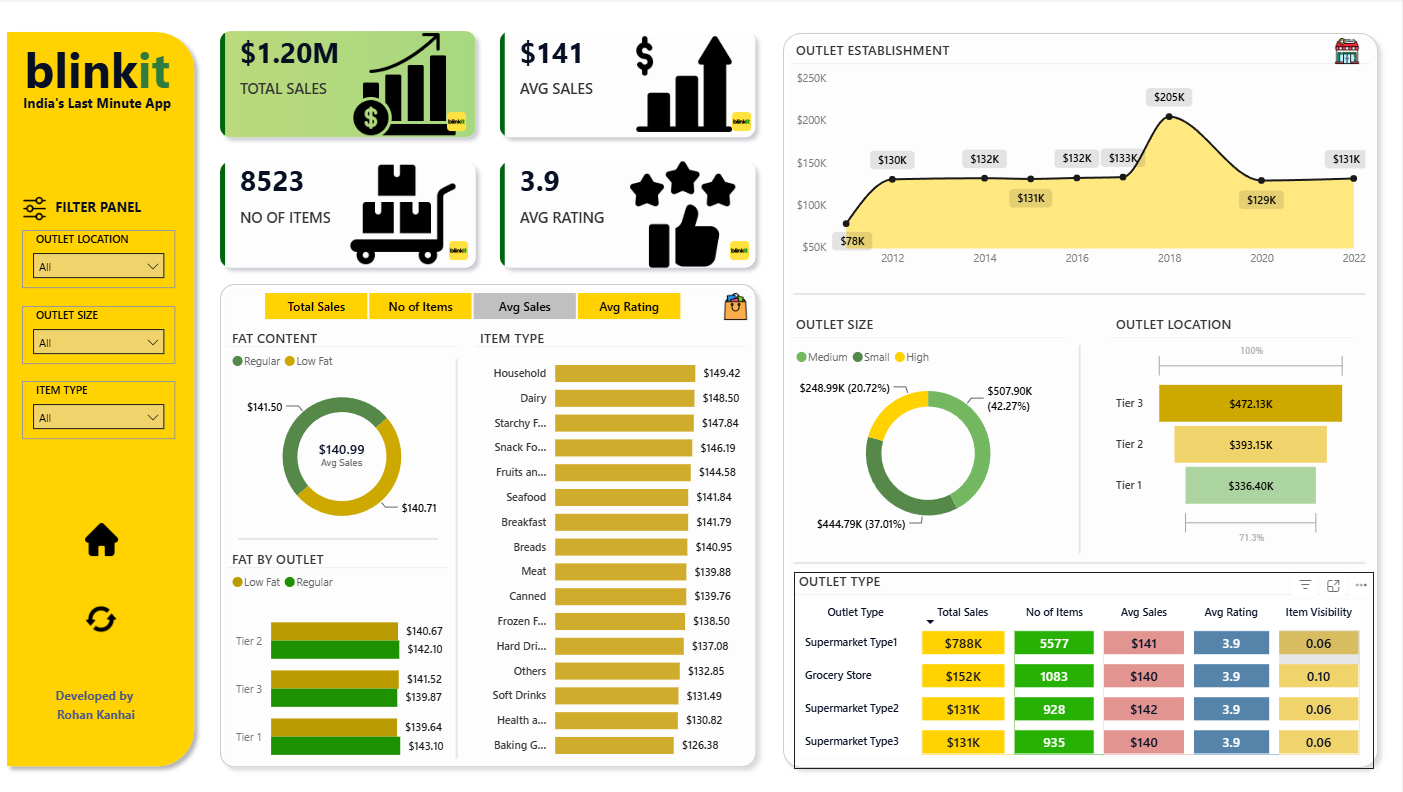

Layout of this report page (visuals, bound fields, positions):
{"tool":"powerbi","page":{"name":"Home","canvas":[1400,800],"ordinal":0},"visuals":[{"type":"shape","box":[0,25.3,205,750.7],"z":0},{"type":"textbox","box":[0,33,198.1,82.1],"z":1000},{"type":"cardVisual","fields":{"Data":["BlinkIT Grocery Data.Total Sum Sales","BlinkIT Grocery Data.Average Sales","BlinkIT Grocery Data.No of Items","BlinkIT Grocery Data.Avg Rating"]},"box":[204.8,15.8,569.7,270.8],"z":2000},{"type":"image","box":[71.4,466.3,58.7,42.6],"z":3000},{"type":"image","box":[74.4,521.1,52.1,39.7],"z":4000},{"type":"image","box":[81.8,568.8,38,39.1],"z":5000},{"type":"shape","box":[774.5,25.5,611.7,751.1],"z":6000},{"type":"areaChart","title":"OUTLET ESTABLISHMENT","fields":{"Y":["BlinkIT Grocery Data.Total Sum Sales"],"Category":["BlinkIT Grocery Data.Outlet Establishment Year2"]},"box":[790.6,42.5,578.3,234],"z":7000},{"type":"textbox","box":[0,89.6,198.1,34],"z":8000},{"type":"donutChart","title":"OUTLET SIZE","fields":{"Category":["BlinkIT Grocery Data.Outlet Size"],"Y":["BlinkIT Grocery Data.Total Sum Sales"]},"box":[790.6,316,273.6,224.5],"z":9000},{"type":"funnel","title":"OUTLET LOCATION","fields":{"Category":["BlinkIT Grocery Data.Outlet Location Type"],"Y":["BlinkIT Grocery Data.Total Sum Sales"]},"box":[1110.4,316,240.6,234],"z":10000},{"type":"pivotTable","title":"OUTLET TYPE","fields":{"Rows":["BlinkIT Grocery Data.Outlet Type"],"Values":["BlinkIT Grocery Data.Total Sum Sales","BlinkIT Grocery Data.No of Items","BlinkIT Grocery Data.Average Sales","BlinkIT Grocery Data.Avg Rating","Avg(BlinkIT Grocery Data.Item Visibility)"]},"box":[793.6,572.3,578.7,197.1],"z":11000},{"type":"shape","box":[793.4,284.9,570.8,19.8],"z":12000},{"type":"shape","box":[1064.2,346.2,29.2,208.5],"z":13000},{"type":"shape","box":[212.8,276.6,553.2,500],"z":14000},{"type":"donutChart","title":"FAT CONTENT","fields":{"Y":["BlinkIT Grocery Data.Total Sum Sales"],"Category":["BlinkIT Grocery Data.Item Fat Content"]},"box":[228.3,330.2,229.2,213.2],"z":15000},{"type":"shape","box":[793.4,553.8,570.8,19.8],"z":16000},{"type":"cardVisual","fields":{"Data":["BlinkIT Grocery Data.Total Sum Sales"]},"box":[291.9,428.1,102,54.5],"z":17000},{"type":"slicer","fields":{"Values":["Metric.Metric"]},"box":[240,287.5,464.2,39.6],"z":18000},{"type":"barChart","title":"ITEM TYPE","fields":{"Y":["BlinkIT Grocery Data.Total Sum Sales"],"Category":["BlinkIT Grocery Data.Item Type"]},"box":[475.3,330.2,269.8,438.1],"z":19000},{"type":"shape","box":[442.5,360.4,29.2,399.1],"z":20000},{"type":"clusteredBarChart","title":"FAT BY OUTLET","fields":{"Y":["BlinkIT Grocery Data.Total Sum Sales"],"Category":["BlinkIT Grocery Data.Outlet Location Type"],"Series":["BlinkIT Grocery Data.Item Fat Content"]},"box":[228.3,550.9,221.7,229.2],"z":21000},{"type":"shape","box":[239.6,529.2,200,19.8],"z":22000},{"type":"image","box":[725.5,108.5,33,29.2],"z":23000},{"type":"image","box":[723.6,237.7,33,29.2],"z":24000},{"type":"image","box":[442.5,237.7,33,29.2],"z":25000},{"type":"image","box":[440.6,108.5,33,29.2],"z":26000},{"type":"image","box":[715.6,289.2,41.3,36.9],"z":27000},{"type":"image","box":[1327.5,33.4,36,40.4],"z":28000},{"type":"slicer","fields":{"Values":["BlinkIT Grocery Data.Outlet Location Type"]},"box":[23.7,231.2,153,58],"z":29000},{"type":"slicer","fields":{"Values":["BlinkIT Grocery Data.Outlet Size"]},"box":[23.7,307.7,153,58],"z":30000},{"type":"slicer","fields":{"Values":["BlinkIT Grocery Data.Item Type"]},"box":[23.7,382.4,153,58],"z":31000},{"type":"textbox","box":[36.8,193.4,126.4,31.1],"z":32000},{"type":"image","box":[18.9,184,34.9,53.8],"z":33000},{"type":"textbox","box":[19,680.3,157.6,63.8],"z":34000},{"type":"actionButton","box":[80.6,616.6,38.5,39.7],"z":38000}]}

Visuals, with their boxes in screenshot pixels (x1, y1, x2, y2), scaled from the page's 1400x800 canvas onto the 1403x792 screenshot:
shape: crop(0, 25, 205, 768)
textbox: crop(0, 33, 199, 114)
cardVisual - BlinkIT Grocery Data.Total Sum Sales x BlinkIT Grocery Data.Average Sales: crop(205, 16, 776, 284)
image: crop(72, 462, 130, 504)
image: crop(75, 516, 127, 555)
image: crop(82, 563, 120, 602)
shape: crop(776, 25, 1389, 769)
"OUTLET ESTABLISHMENT" areaChart: crop(792, 42, 1372, 274)
textbox: crop(0, 89, 199, 122)
"OUTLET SIZE" donutChart: crop(792, 313, 1066, 535)
"OUTLET LOCATION" funnel: crop(1113, 313, 1354, 544)
"OUTLET TYPE" pivotTable: crop(795, 567, 1375, 762)
shape: crop(795, 282, 1367, 302)
shape: crop(1066, 343, 1096, 549)
shape: crop(213, 274, 768, 769)
"FAT CONTENT" donutChart: crop(229, 327, 458, 538)
shape: crop(795, 548, 1367, 568)
cardVisual - BlinkIT Grocery Data.Total Sum Sales: crop(293, 424, 395, 478)
slicer - Metric.Metric: crop(241, 285, 706, 324)
"ITEM TYPE" barChart: crop(476, 327, 747, 761)
shape: crop(443, 357, 473, 752)
"FAT BY OUTLET" clusteredBarChart: crop(229, 545, 451, 772)
shape: crop(240, 524, 441, 544)
image: crop(727, 107, 760, 136)
image: crop(725, 235, 758, 264)
image: crop(443, 235, 477, 264)
image: crop(442, 107, 475, 136)
image: crop(717, 286, 759, 323)
image: crop(1330, 33, 1366, 73)
slicer - BlinkIT Grocery Data.Outlet Location Type: crop(24, 229, 177, 286)
slicer - BlinkIT Grocery Data.Outlet Size: crop(24, 305, 177, 362)
slicer - BlinkIT Grocery Data.Item Type: crop(24, 379, 177, 436)
textbox: crop(37, 191, 164, 222)
image: crop(19, 182, 54, 235)
textbox: crop(19, 673, 177, 737)
actionButton: crop(81, 610, 119, 650)
